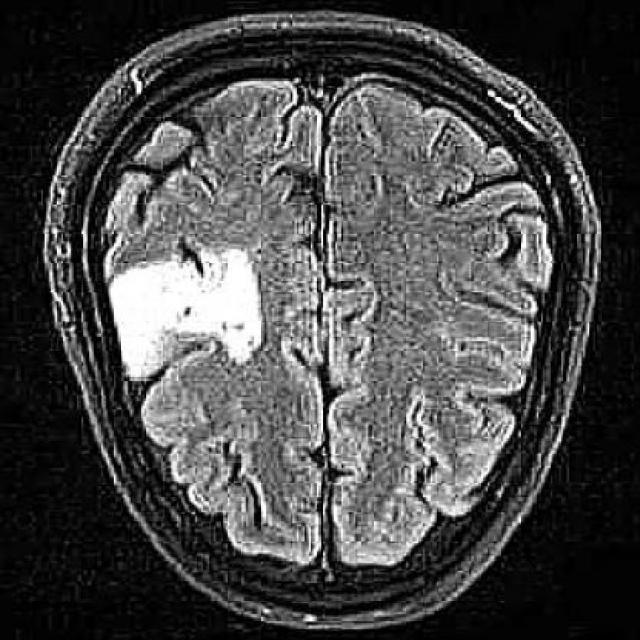Brain-Tumor: (96, 232, 284, 394)
